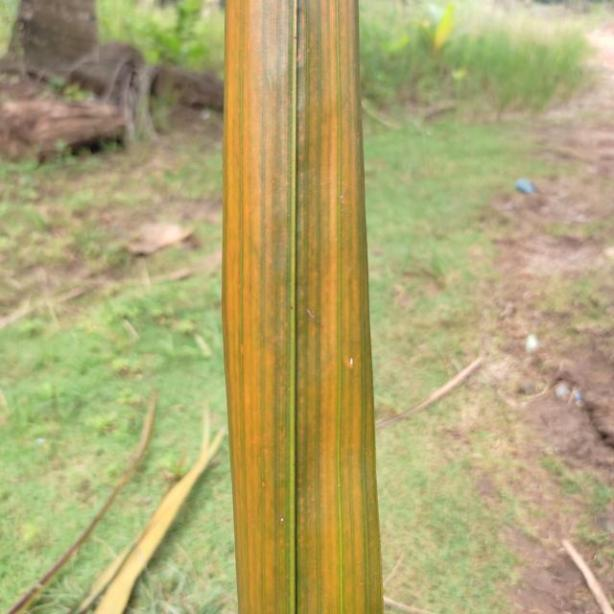Megnesium: (226, 0, 382, 614)
